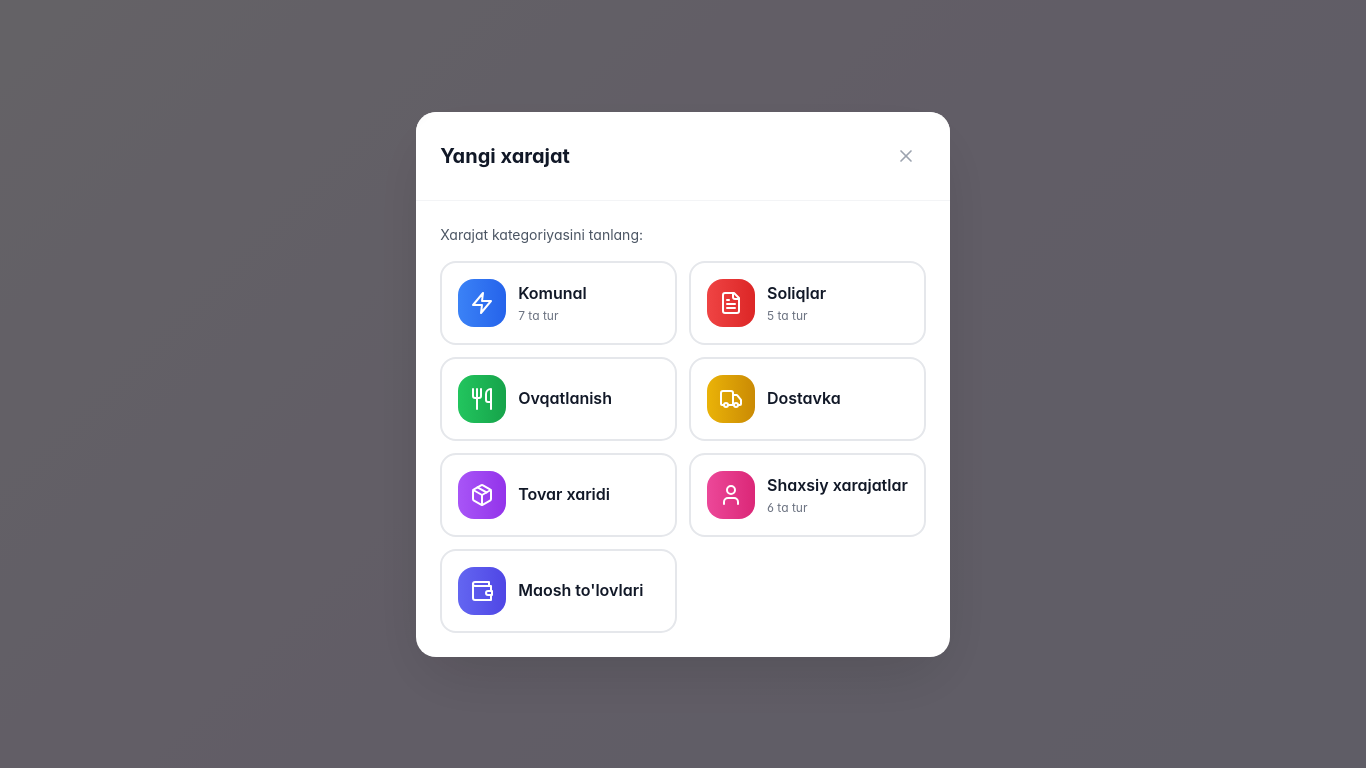
🧪 ExpenseModal Component › Form Submission › ✅ Handles submission error
Click the button "Ovqatlanish" at (559, 398), box x1=440 y1=356 x2=677 y2=440
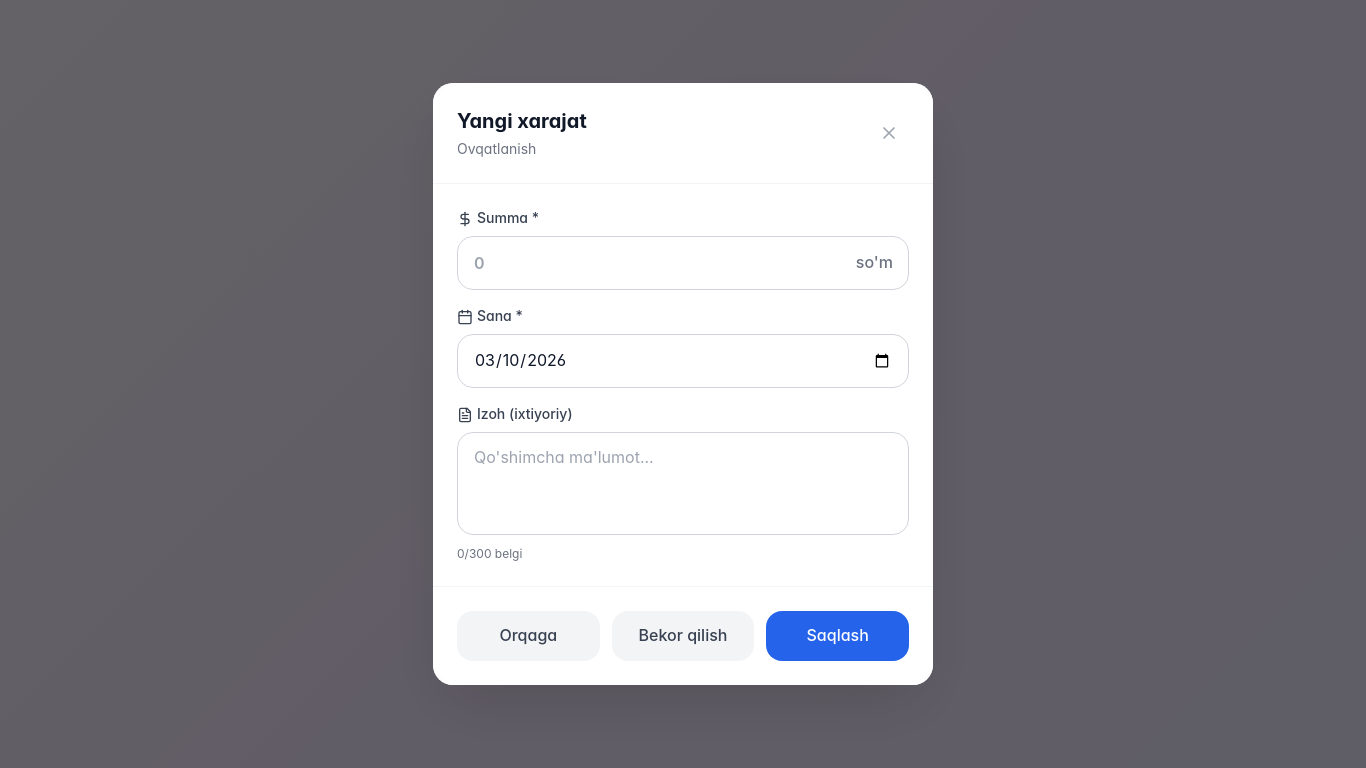
Type "50000" into the field with placeholder "0" at (683, 263), box x1=457 y1=236 x2=909 y2=290
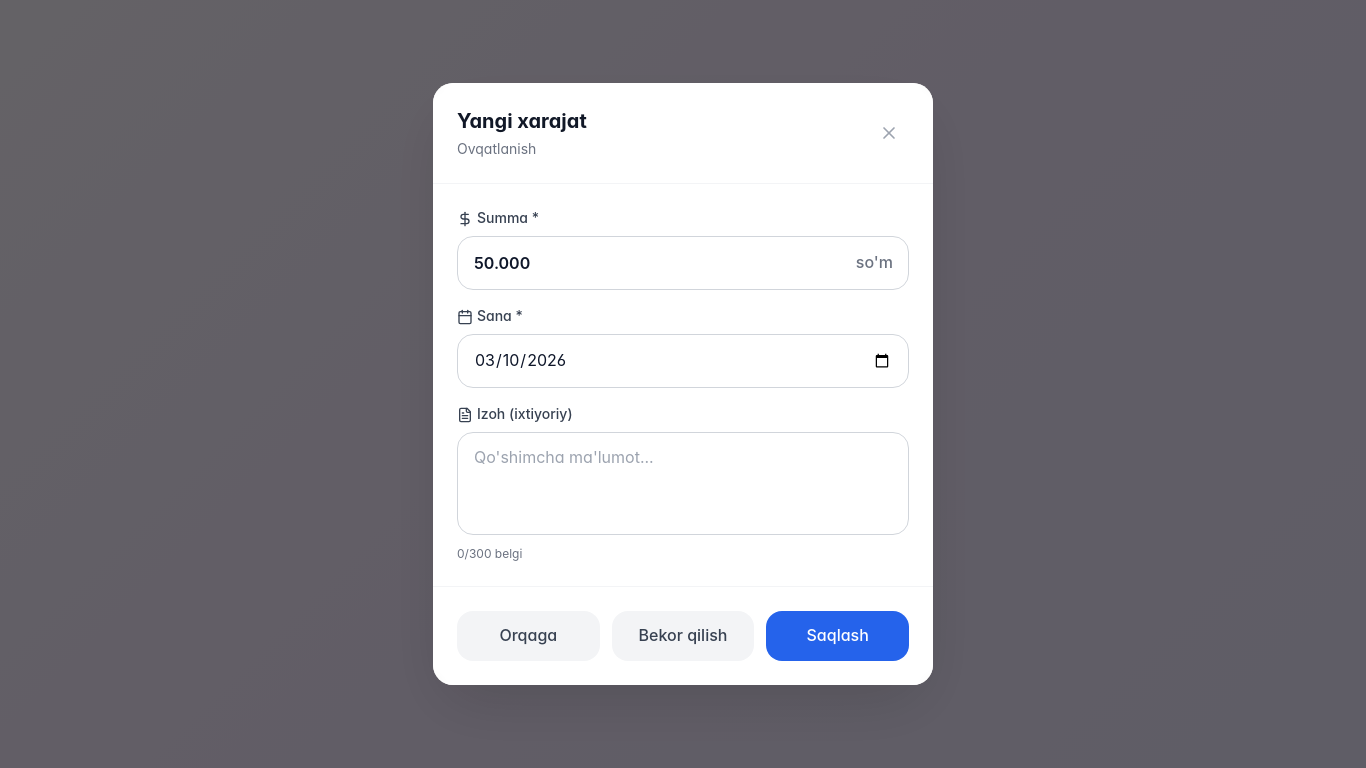
Click the button "Saqlash" at (838, 636), box x1=766 y1=611 x2=909 y2=661
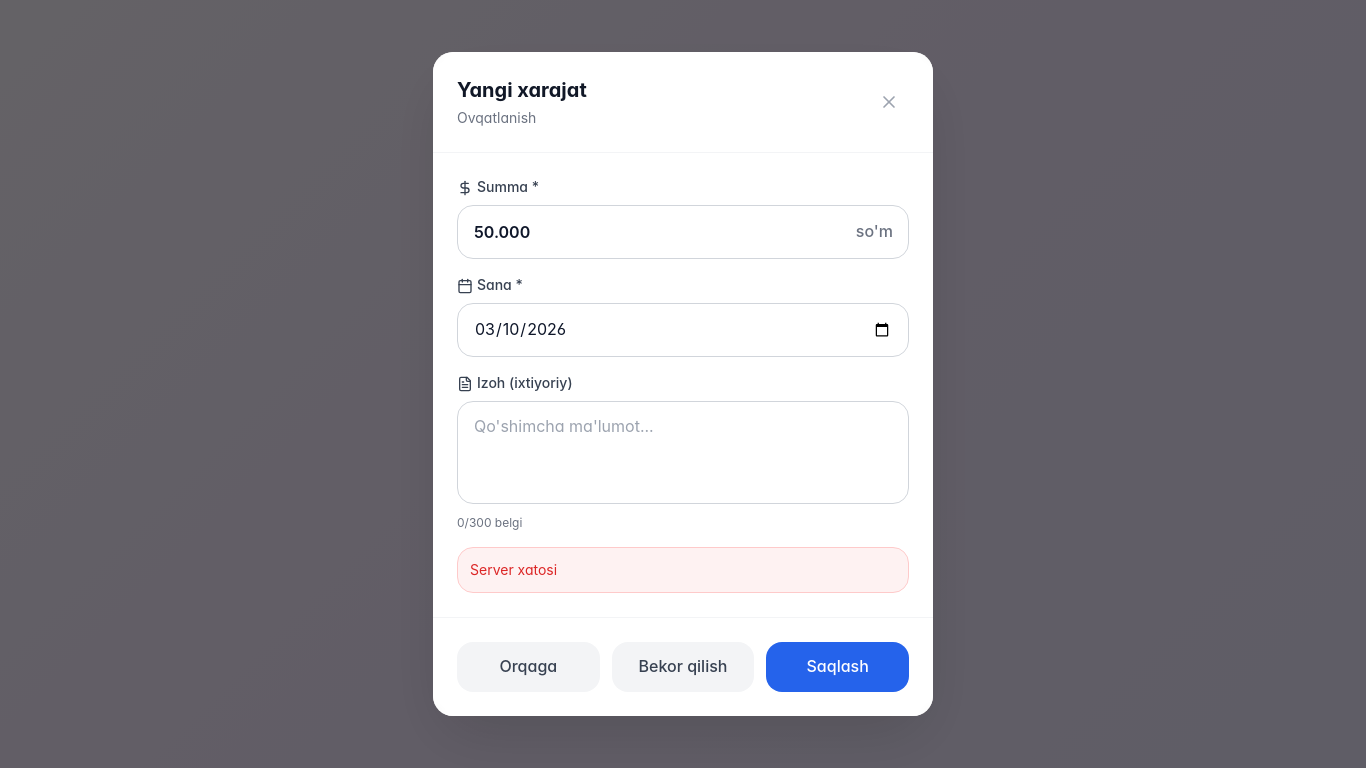
expect the text "Server xatosi" is shown: met, box x1=470 y1=561 x2=557 y2=578
